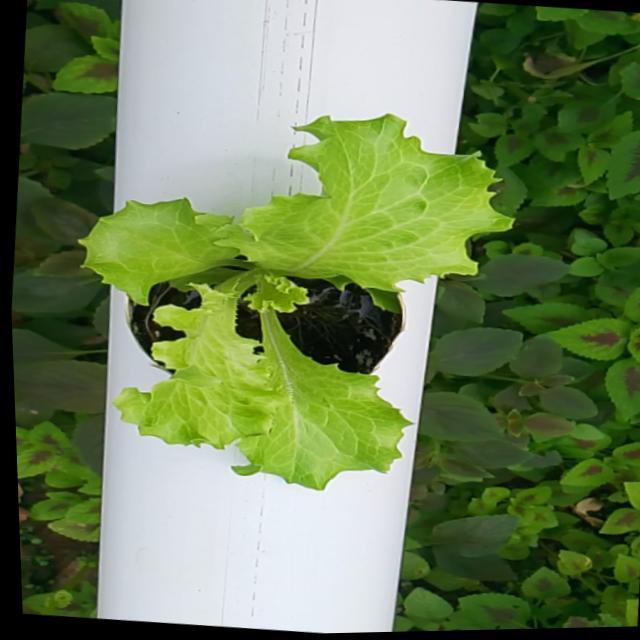Baby: (75, 114, 509, 491)
